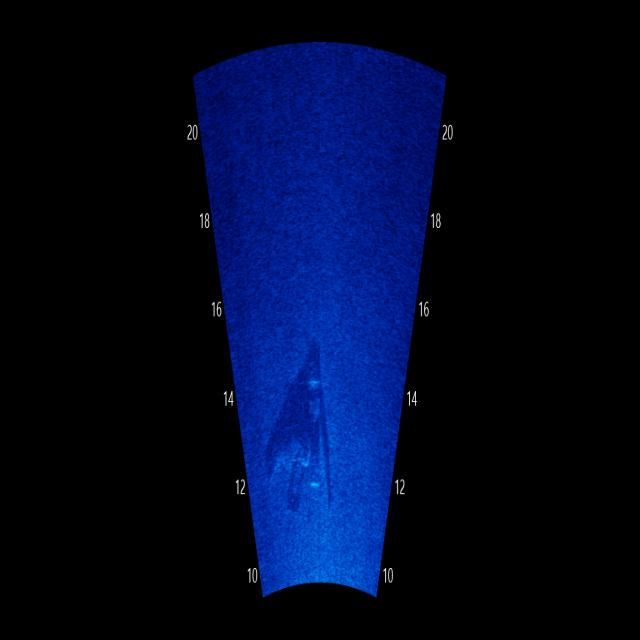triangle: (254, 298, 342, 507)
